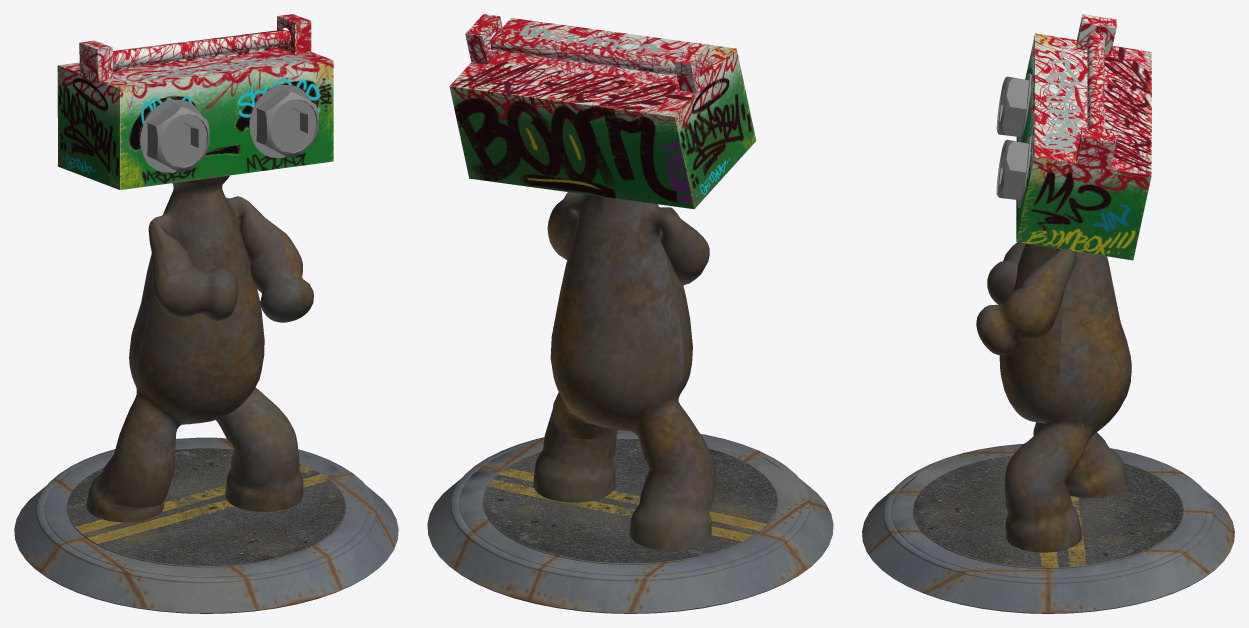
3 renders of one model, left to right at view 1: azimuth 30°, elevation 25°; view 2: azimuth 150°, elevation 25°; view 3: azimuth 270°, elevation 25°, orthographic. The views are drawn at different scales.
Size of the model in its own units: 1.45 by 2.05 by 1.45.
5 materials, 4 textured.
